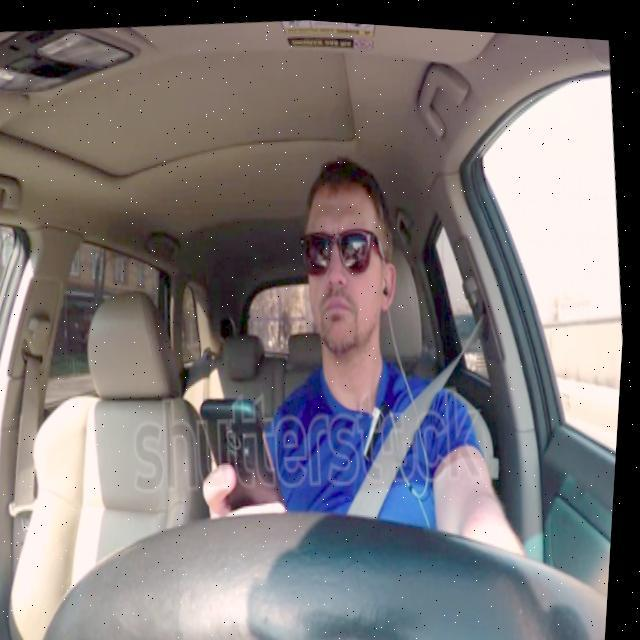PhoneCall: (192, 384, 292, 522)
